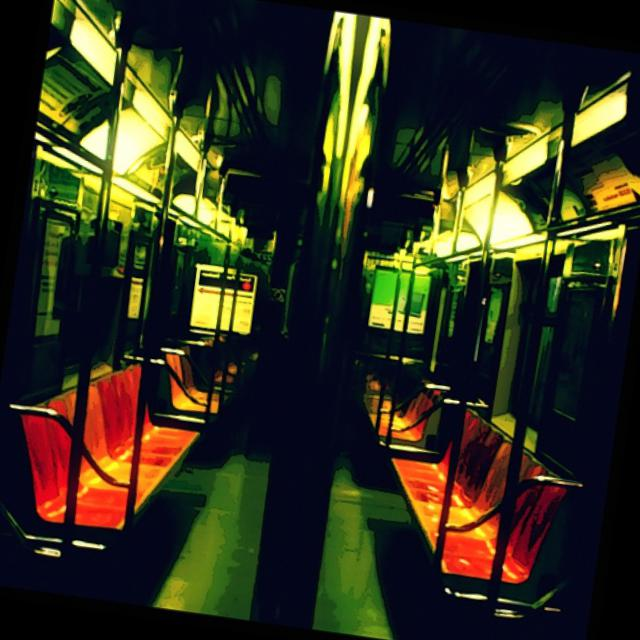handle bars: (251, 0, 397, 639)
seats crop: (389, 405, 572, 593), (22, 360, 201, 532), (170, 344, 230, 411), (373, 383, 443, 439)
